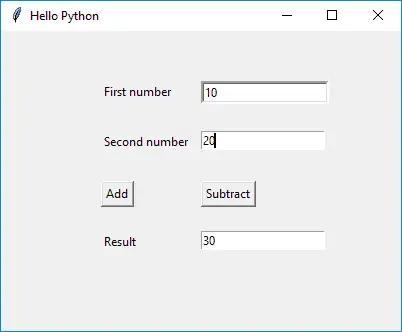button: (203, 181, 259, 210), (102, 182, 136, 208)
icon: (371, 9, 388, 24), (283, 11, 295, 22)
input: (202, 132, 328, 152), (204, 83, 329, 103), (202, 231, 326, 250)
label: (100, 82, 174, 102), (102, 135, 191, 150), (29, 10, 101, 25), (103, 231, 140, 251)
